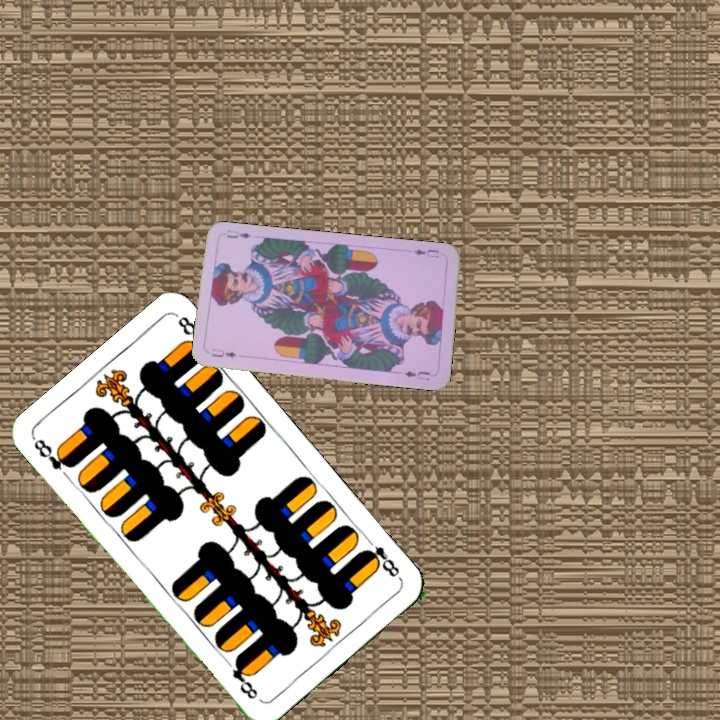E8: (358, 533, 404, 583), (29, 434, 77, 473)
EU: (208, 345, 239, 361), (410, 245, 441, 260)
